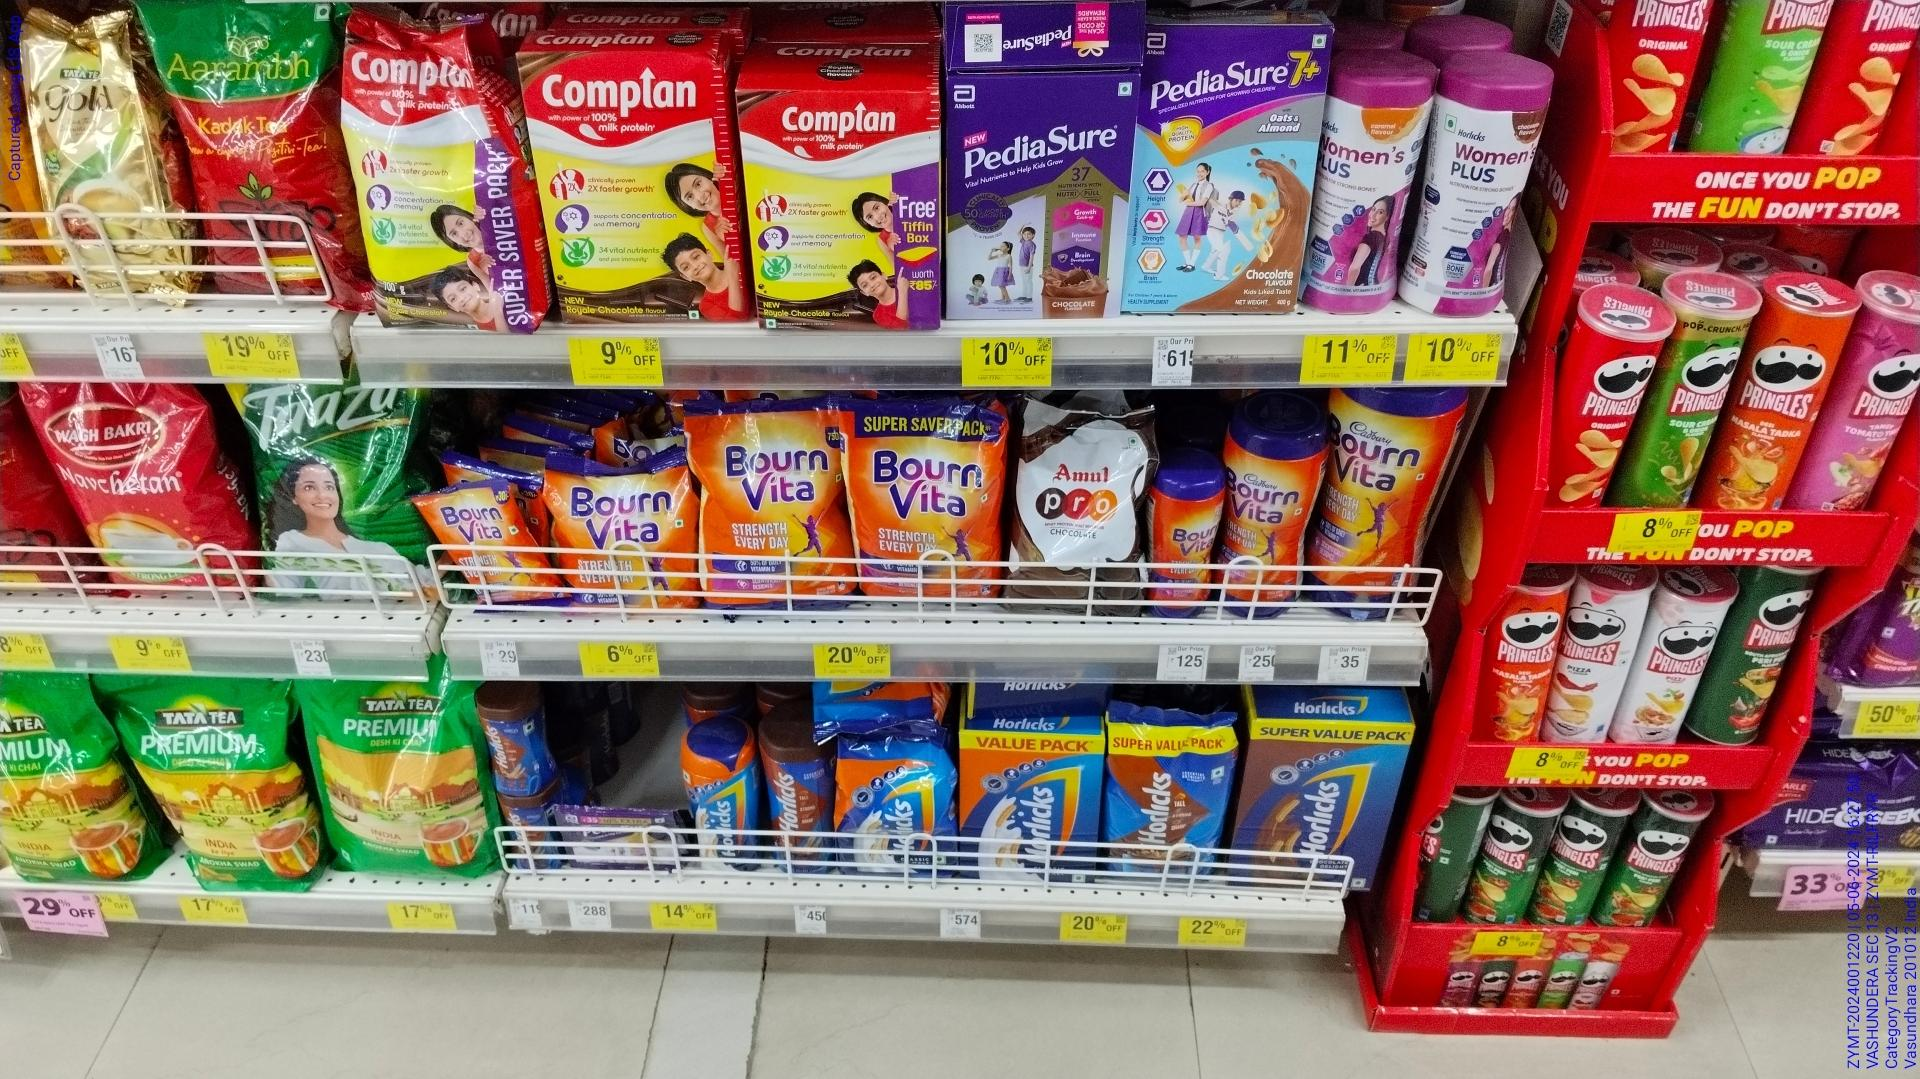BOURN_VITA_1_KG_JAR: (1323, 393, 1433, 616)
BOURN_VITA_1_KG_POUCH: (849, 401, 1001, 595)
BOURN_VITA_200_G_JAR: (1154, 470, 1221, 616)
BOURN_VITA_500_G_JAR: (1225, 416, 1315, 613)
BOURN_VITA_500_G_POUCH: (553, 451, 690, 613)
BOURN_VITA_750_G_POUCH: (696, 404, 836, 609)
HORLICK_CHOCOLATE_500_G_JAR: (764, 736, 827, 871)
HORLICK_CHOCOLATE_750_G_POUCH: (1105, 703, 1228, 880)
HORLICK_CLASSIC_MALT_500_G_JAR: (691, 736, 758, 872)
PEDIASURE_7_PLUS_CHOCOLATE_400_G_PACK: (1139, 26, 1320, 314)
PEDIASURE_CHOCOLATE_500_G_PACK: (952, 79, 1131, 319)
